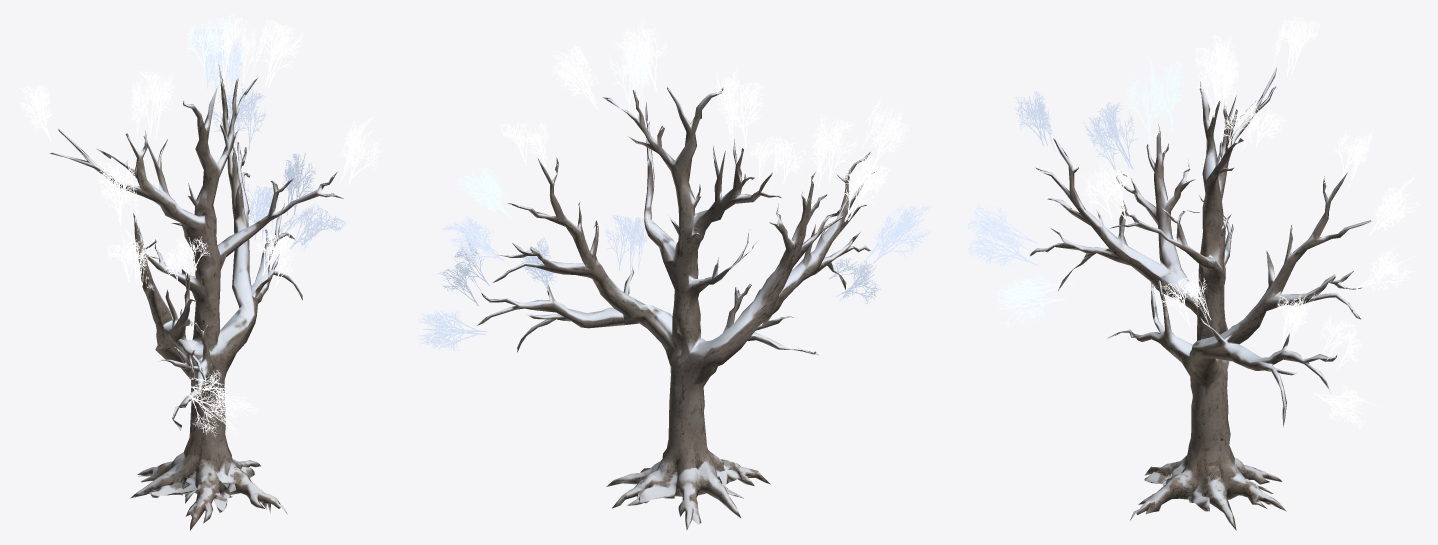
Rendered from prop_frozen_tree.5878bb90.glb.
3 views of the same model, side by side, from view 1: azimuth 30°, elevation 25°; view 2: azimuth 150°, elevation 25°; view 3: azimuth 270°, elevation 25° (orthographic).
Visible parts, largest first — view 1: tripo_node_617c6433-d767-4487-b768-d8593e1951ef, prop_frozen_tree_frost; view 2: tripo_node_617c6433-d767-4487-b768-d8593e1951ef, prop_frozen_tree_frost; view 3: tripo_node_617c6433-d767-4487-b768-d8593e1951ef, prop_frozen_tree_frost.
Boxes of the visible parts, x1,y1,x2,y2 form: tripo_node_617c6433-d767-4487-b768-d8593e1951ef: (49,62,343,530); prop_frozen_tree_frost: (17,14,382,441); tripo_node_617c6433-d767-4487-b768-d8593e1951ef: (476,87,874,530); prop_frozen_tree_frost: (417,16,932,351); tripo_node_617c6433-d767-4487-b768-d8593e1951ef: (1030,67,1371,530); prop_frozen_tree_frost: (967,15,1421,429).
Size of the model in its own units: 4.55 by 5.66 by 5.02.
Materials: 2 (2 with a texture image).
